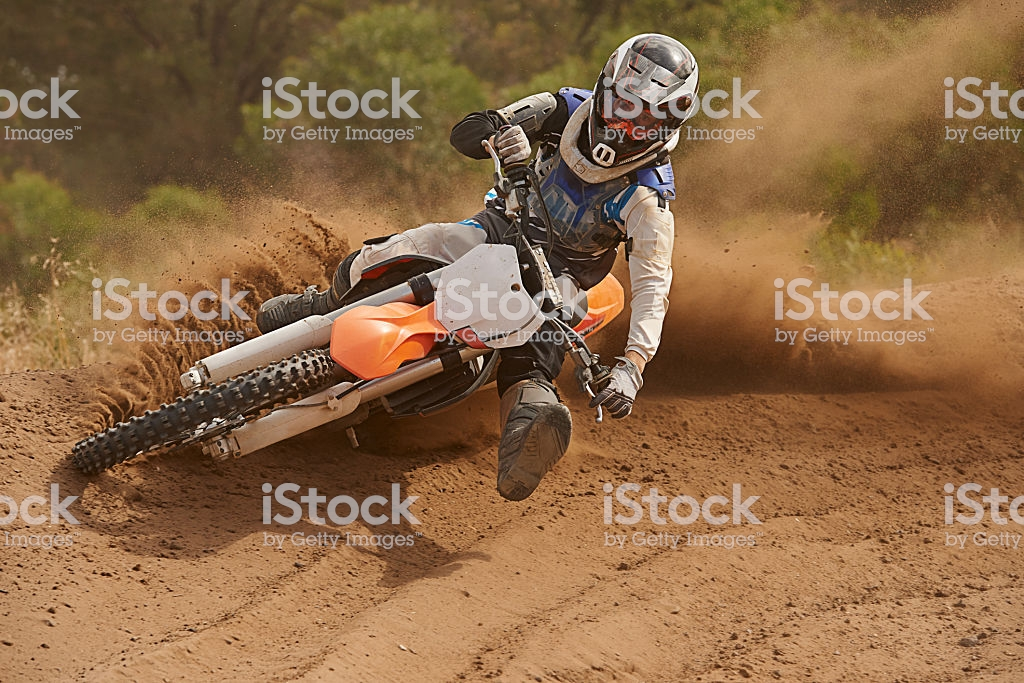helmet: (593, 23, 702, 170)
